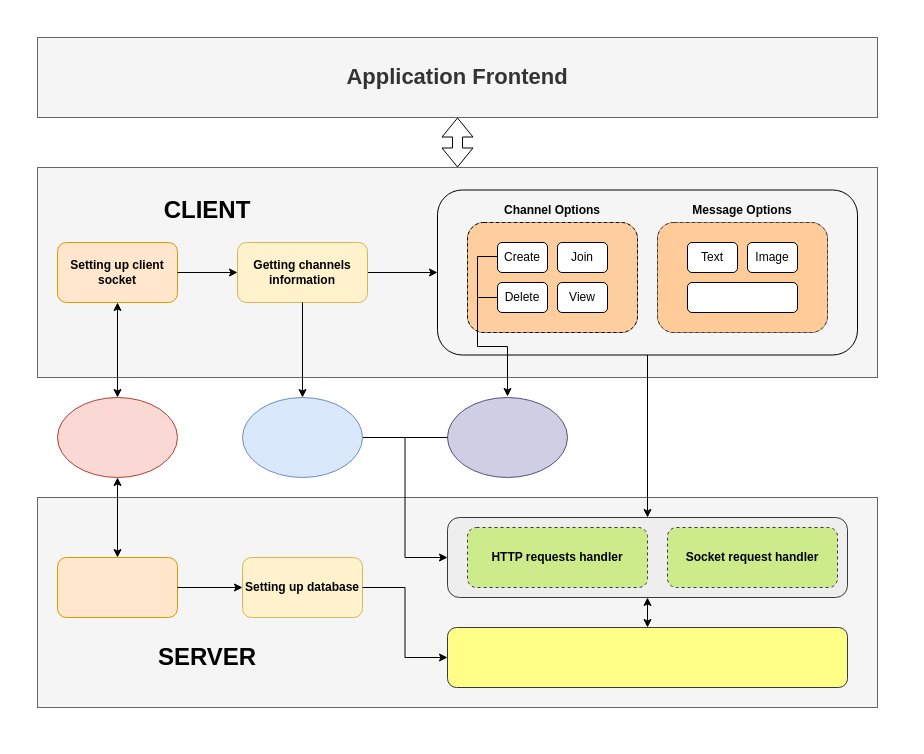
Some shapes in this 924 by 754 pixel diagram are drawn without their labels. The centre of each missing label's shape, as x and y in pixels:
"/getChannels GET request" goes at point (302, 437).
"/updateChannels POST request" goes at point (507, 437).
"Database" goes at point (647, 657).
"INITIAL HANDSHAKE" goes at point (117, 437).
"Setting up server socket" goes at point (117, 587).
"Text + Image" goes at point (742, 297).
